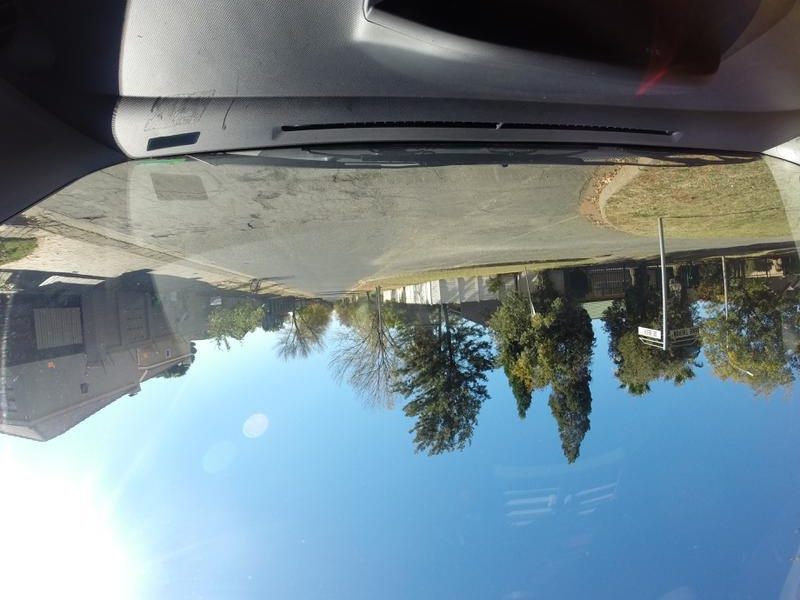pothole: (250, 191, 279, 205), (326, 173, 361, 183), (146, 232, 177, 240), (245, 221, 264, 229), (80, 216, 108, 221)
